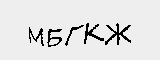Б: (47, 25, 62, 49)
Г: (63, 23, 82, 49)
Ж: (103, 21, 132, 45)
К: (82, 22, 105, 45)
М: (25, 25, 45, 48)
